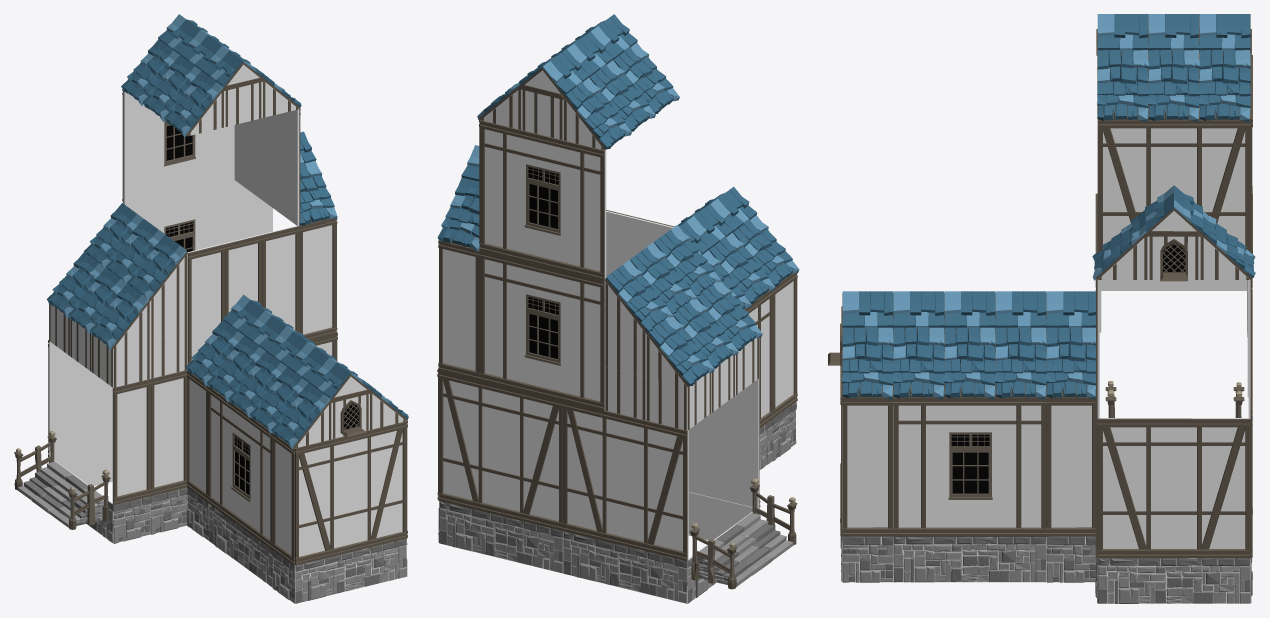
Rendered from House_17_parts.fbx.
3 renders of one model, left to right at view 1: azimuth 30°, elevation 25°; view 2: azimuth 150°, elevation 25°; view 3: azimuth 270°, elevation 25°, orthographic. The views are drawn at different scales.
Parts seen in each view (by area): view 1: WALL_02_2, WINDOW_03_5, WINDOW_03_2, WALL_02_6, WALL_02_5, WINDOW_03_4, WALL_03_8, STAIRS_03_2, WALL_03_7, FOUNDATION_02_24, WALL_03_10, WALL_03_13 (+48 smaller); view 2: WINDOW_03_5, WALL_02_5, WINDOW_03_4, WALL_02_4, STAIRS_03_2, FOUNDATION_02_28, WALL_03_14, FOUNDATION_02_27, WALL_03_8, WALL_03_4, ROOF_base_16, ROOF_base_18 (+37 smaller); view 3: WALL_02_3, WINDOW_03_3, WALL_02_6, WALL_03_5, FOUNDATION_02_25, FOUNDATION_02_26, WALL_03_6, ROOF_base_4, ROOF_base_5, ROOF_base_3, ROOF_base_6, ROOF_base_22 (+24 smaller).
Boxes of the visible parts, x1,y1,x2,y2 form: WALL_02_2: (295,421,407,565); WINDOW_03_5: (122,89,234,206); WINDOW_03_2: (207,385,272,549); WALL_02_6: (234,108,300,225); WALL_02_5: (48,340,112,457); WINDOW_03_4: (126,180,235,252); WALL_03_8: (112,379,151,505); STAIRS_03_2: (14,430,110,529); WALL_03_7: (151,370,187,495); FOUNDATION_02_24: (295,538,406,603); WALL_03_10: (299,218,337,340); WALL_03_13: (187,243,225,364); WINDOW_03_5: (479,120,606,280); WALL_02_5: (562,401,688,561); WINDOW_03_4: (479,251,604,410); WALL_02_4: (438,371,562,530); STAIRS_03_2: (689,478,797,589); FOUNDATION_02_28: (563,531,687,603); WALL_03_14: (438,240,480,380); FOUNDATION_02_27: (439,501,563,573); WALL_03_8: (717,377,760,508); WALL_03_4: (773,273,797,417); ROOF_base_16: (605,260,673,333); ROOF_base_18: (563,77,631,149); WALL_02_3: (1097,418,1250,558); WINDOW_03_3: (893,397,1046,536); WALL_02_6: (1097,119,1250,252); WALL_03_5: (842,397,893,536); FOUNDATION_02_25: (893,537,1046,582); FOUNDATION_02_26: (1097,558,1250,603); WALL_03_6: (1046,397,1095,536); ROOF_base_4: (944,326,995,399); ROOF_base_5: (893,326,944,399); ROOF_base_3: (995,327,1046,399); ROOF_base_6: (842,327,893,399); ROOF_base_22: (1148,49,1199,122).
Bounding box in the file's own units: 732 × 1159 × 838.
